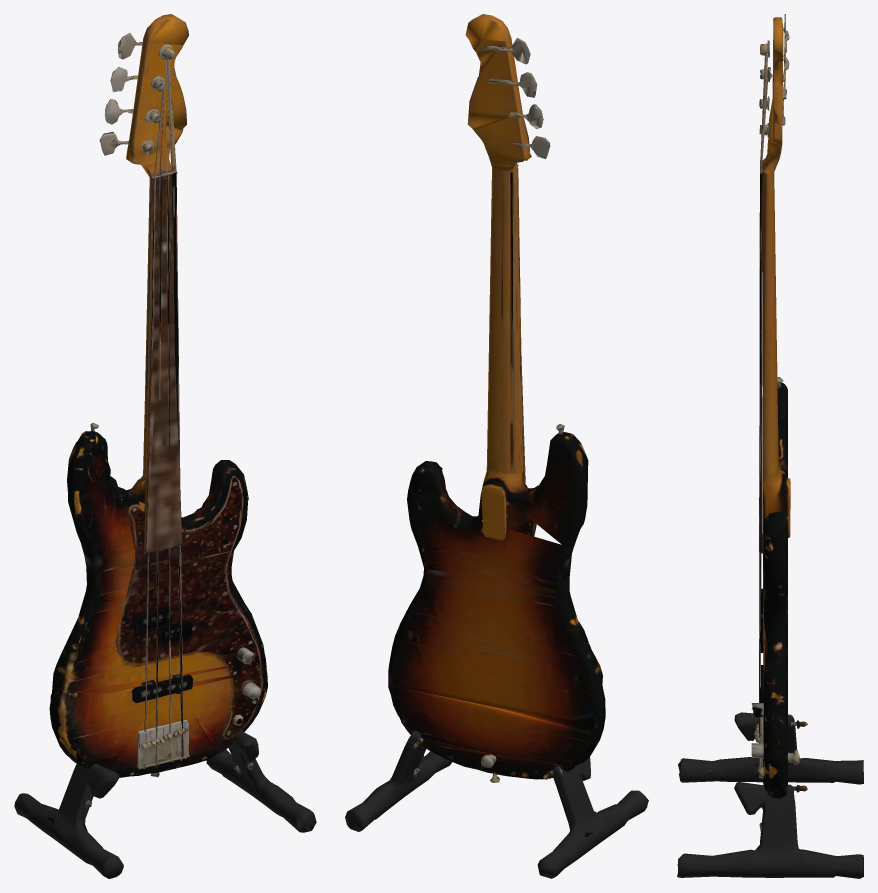
Rendered from mobile.glb.
3 renders of one model, left to right at view 1: azimuth 30°, elevation 25°; view 2: azimuth 150°, elevation 25°; view 3: azimuth 270°, elevation 25°, orthographic.
Visible parts, largest first — view 1: bassguitar; view 2: bassguitar; view 3: bassguitar.
Boxes of the visible parts, <box> form: bassguitar: <box>14,14,316,878</box>; bassguitar: <box>345,14,648,878</box>; bassguitar: <box>677,14,863,878</box>.
Bounding box in the file's own units: 0.323 × 1.15 × 0.2397.
Materials: 1 (1 with a texture image).
